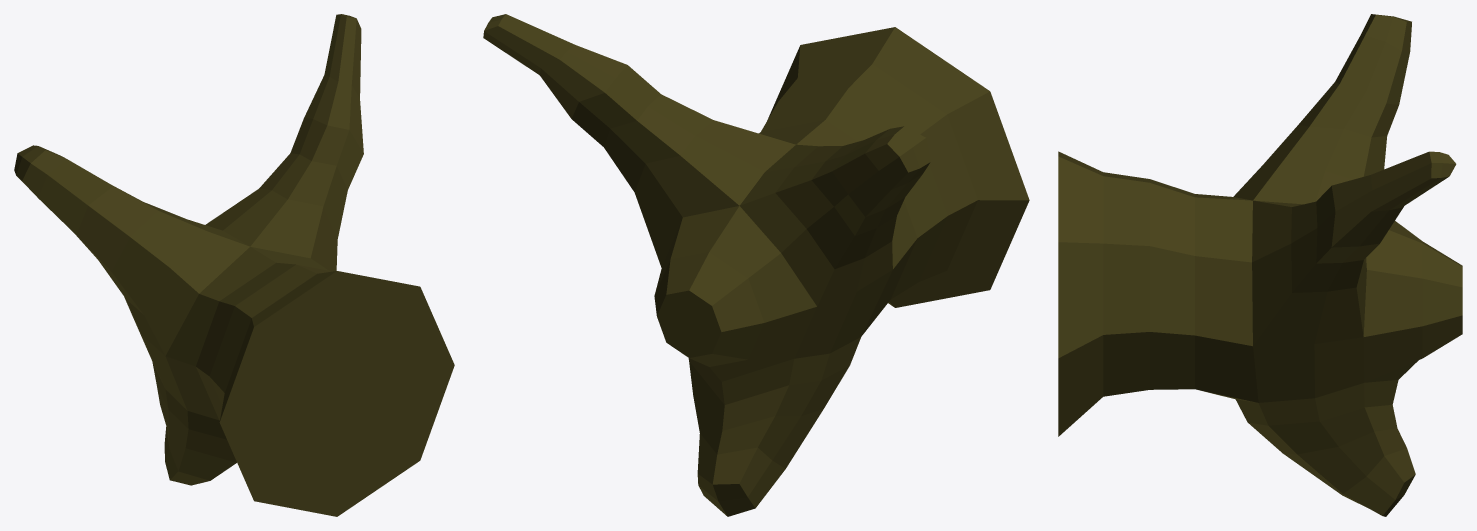
Rendered from WillowTree_3_X.fbx.
3 renders of one model, left to right at view 1: azimuth 30°, elevation 25°; view 2: azimuth 150°, elevation 25°; view 3: azimuth 270°, elevation 25°, orthographic. The views are drawn at different scales.
Parts seen in each view (by area): view 1: WillowTree_3_X; view 2: WillowTree_3_X; view 3: WillowTree_3_X.
Part boxes in pixels (<box>): WillowTree_3_X: <box>14,14,454,516</box>; WillowTree_3_X: <box>483,14,1029,516</box>; WillowTree_3_X: <box>1058,14,1462,516</box>.
Size of the model in its own units: 309 by 335 by 266.
